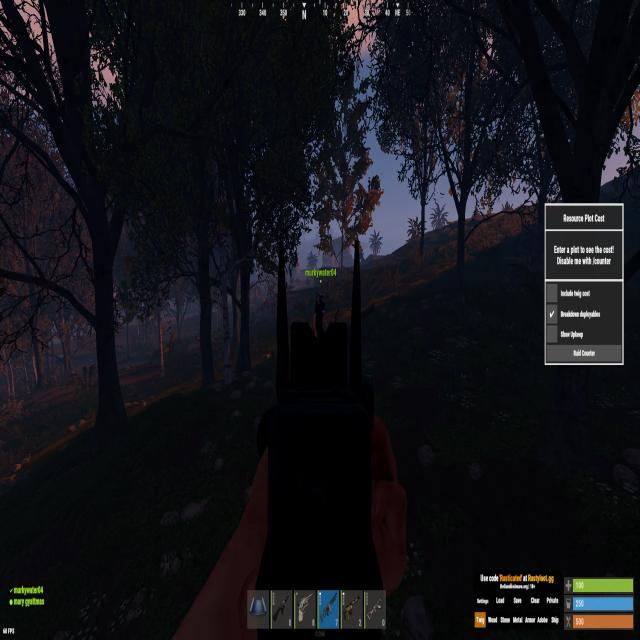Player: (313, 289, 329, 340)
